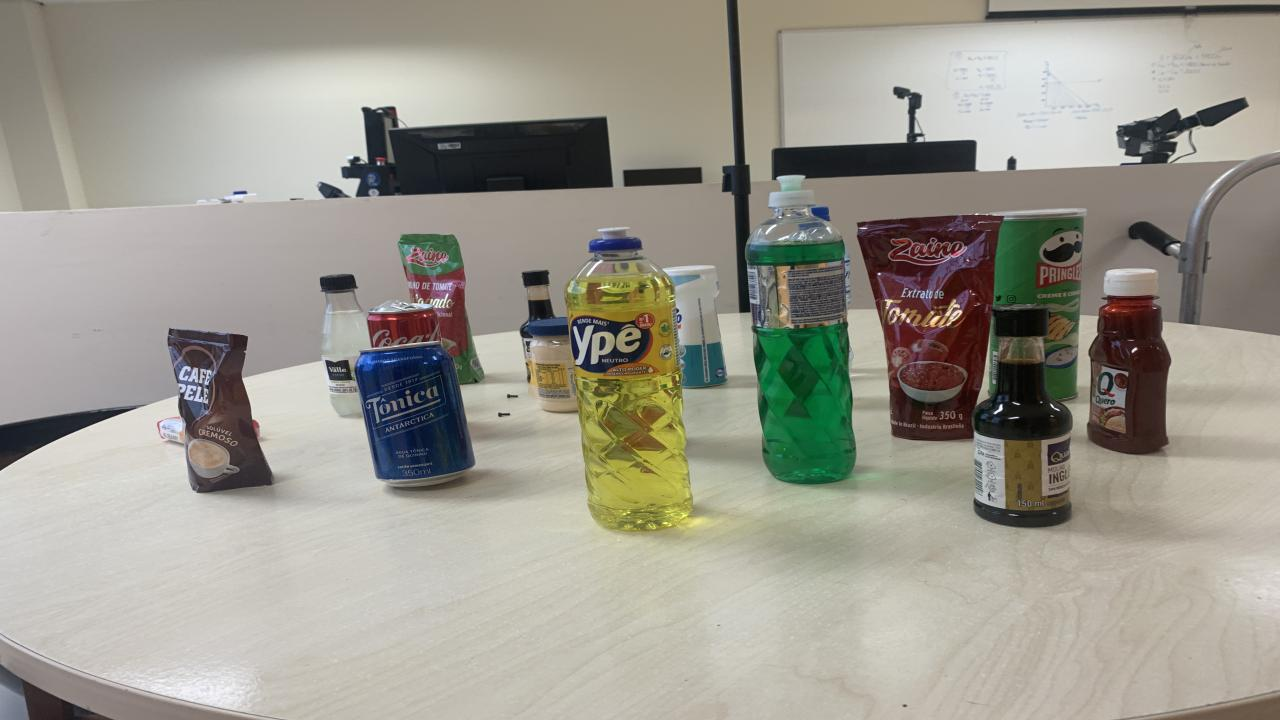Cleaner-Cleanup_Items: (665, 266, 728, 388)
Coffee-Pantry_Items: (168, 328, 272, 493)
Coke-Drinks: (368, 300, 440, 347)
Detergent-Cleanup_Items: (565, 231, 692, 531), (748, 176, 855, 484)
English_Sauce-Pantry_Items: (972, 304, 1072, 527), (520, 270, 555, 396)
Ketchup-Pantry_Items: (1088, 268, 1170, 454)
Mayonnaise-Pantry_Items: (528, 317, 578, 412)
Pringles-Snacks: (995, 208, 1088, 399)
Soap-Cleanup_Items: (158, 416, 185, 444)
Soda-Drinks: (320, 274, 370, 416)
Tomato_Sauce-Pantry_Items: (858, 216, 1002, 441), (398, 234, 485, 384)
Tonic-Drinks: (355, 343, 475, 486)
